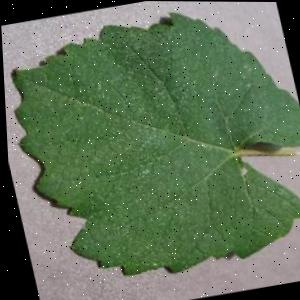Folha: (0, 0, 300, 295)
